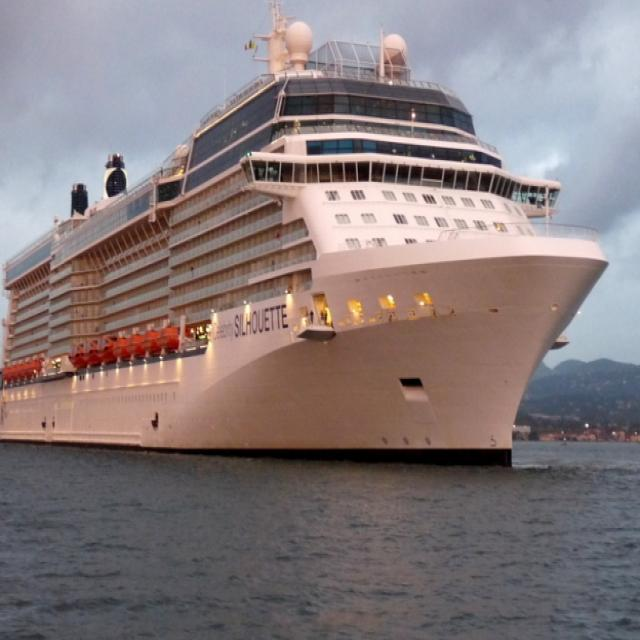cruises: (1, 1, 615, 478)
